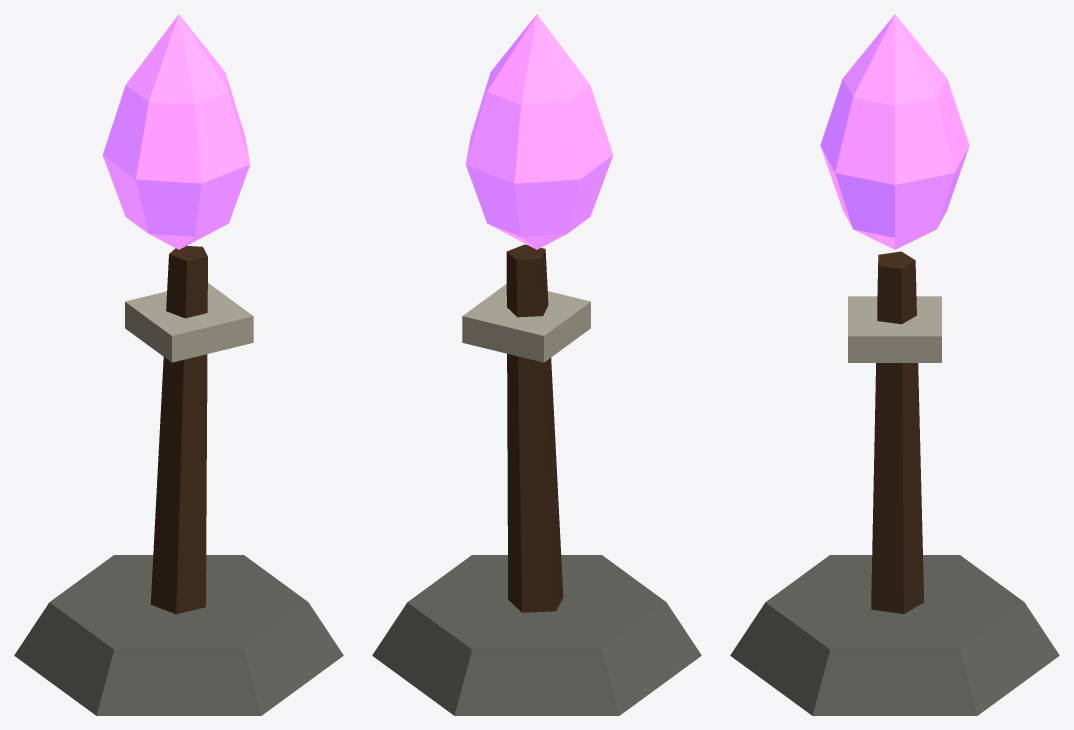
The model's file is prop_soulpath_lamp.glb.
3 renders of one model, left to right at view 1: azimuth 30°, elevation 25°; view 2: azimuth 150°, elevation 25°; view 3: azimuth 270°, elevation 25°, orthographic.
Visible parts, largest first — view 1: prop_soulpath_lamp; view 2: prop_soulpath_lamp; view 3: prop_soulpath_lamp.
Boxes of the visible parts, left/top/right/bottom form: prop_soulpath_lamp: left=14, top=14, right=343, bottom=715; prop_soulpath_lamp: left=372, top=14, right=701, bottom=715; prop_soulpath_lamp: left=730, top=14, right=1059, bottom=715.
Bounding box in the file's own units: 0.485 × 1.2 × 0.56.
